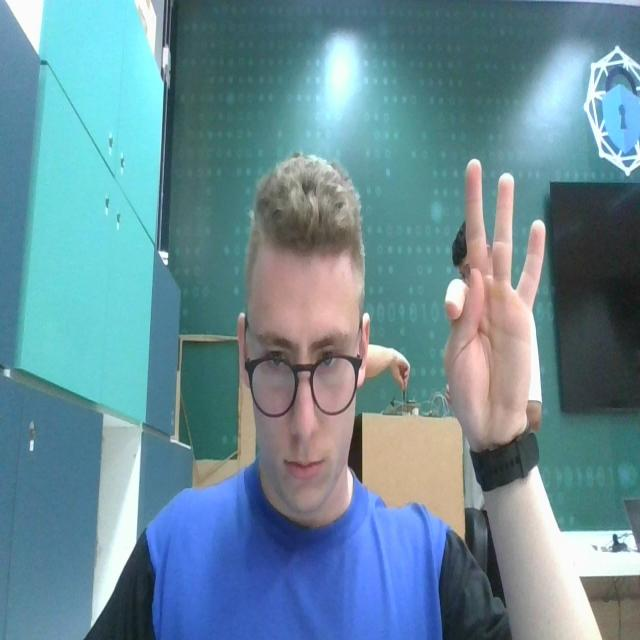T: (440, 153, 545, 443)
